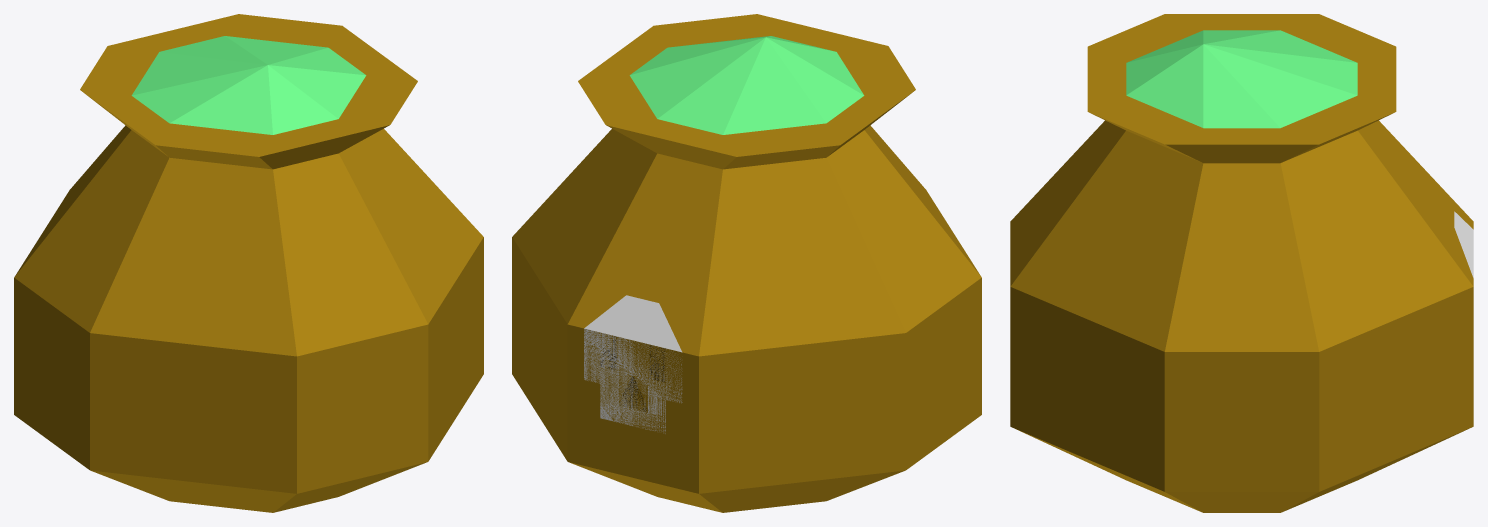
File: inv_feed.obj
3 views of the same model, side by side, from view 1: azimuth 30°, elevation 25°; view 2: azimuth 150°, elevation 25°; view 3: azimuth 270°, elevation 25° (orthographic).
Size of the model in its own units: 0.375 by 0.375 by 0.375.
